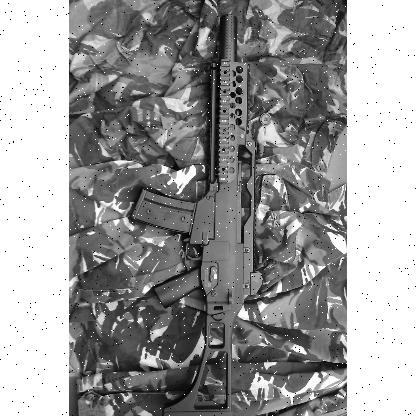gun: (130, 13, 263, 415)
